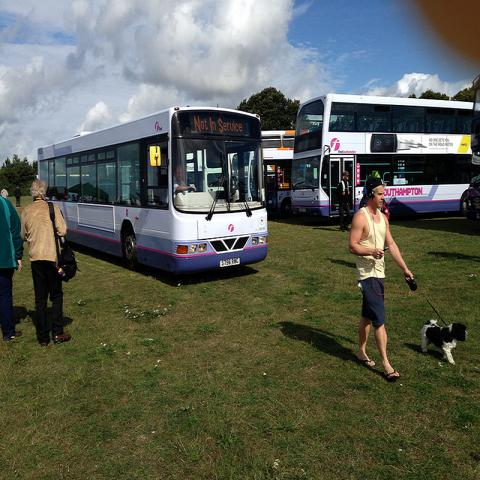bus: (37, 106, 268, 283), (291, 93, 473, 217), (261, 130, 296, 216)
